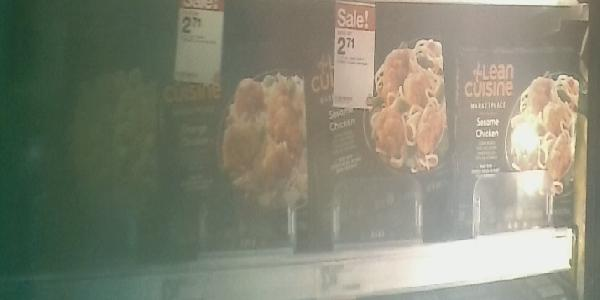pizza1: (315, 36, 450, 250), (158, 67, 307, 256), (456, 48, 579, 233)
